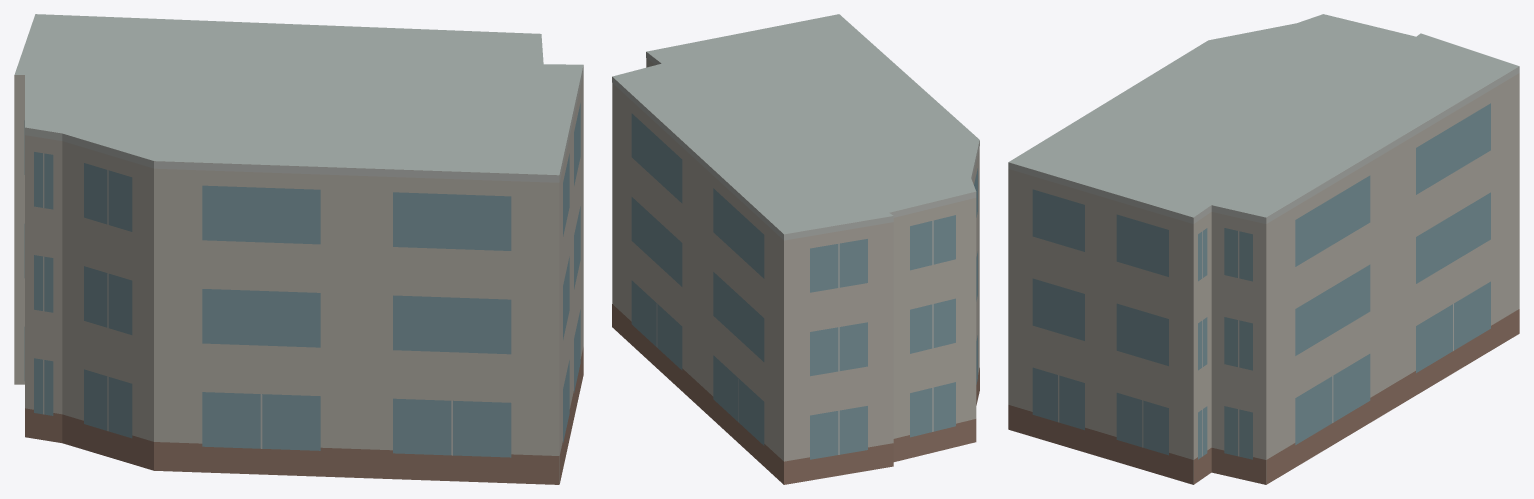
File: survey-upis-32591056.glb
The picture shows the model from 3 angles, left to right: view 1: azimuth 30°, elevation 25°; view 2: azimuth 150°, elevation 25°; view 3: azimuth 270°, elevation 25°; orthographic projection. The views are drawn at different scales.
Visible parts, largest first — view 1: survey-upis-32591056.tmp; view 2: survey-upis-32591056.tmp; view 3: survey-upis-32591056.tmp.
Part boxes in pixels (x1=…): survey-upis-32591056.tmp: x1=14, y1=14, x2=583, y2=484; survey-upis-32591056.tmp: x1=612, y1=14, x2=979, y2=484; survey-upis-32591056.tmp: x1=1008, y1=14, x2=1519, y2=484.
Size of the model in its own units: 16.18 by 9.9 by 17.17.
